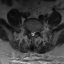CCS_severe_stenosis: (32, 30, 34, 38)
LFS_severe_stenosis: (35, 29, 38, 34)
LLS_normal: (34, 30, 35, 37)
RFS_severe_stenosis: (28, 27, 30, 33)
RLS_stenosis: (30, 29, 32, 36)
